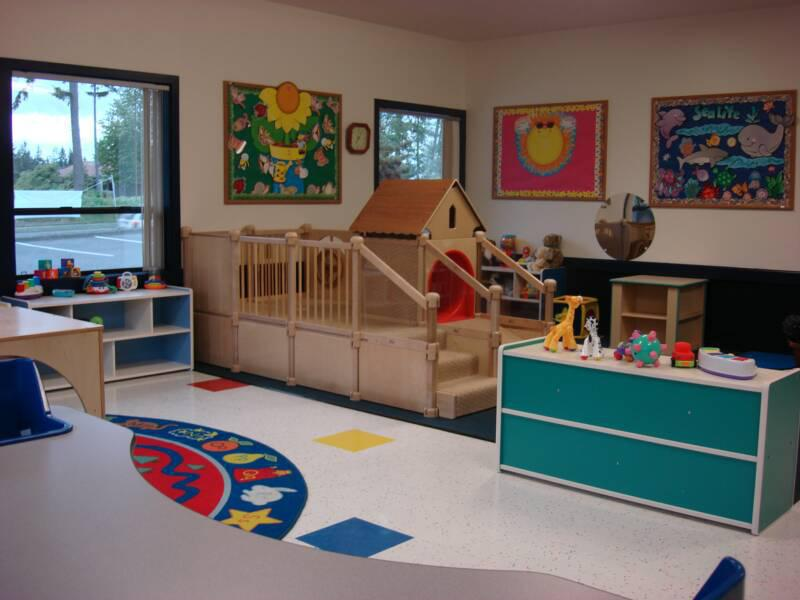Escaleras: (360, 318, 489, 426)
Ventana: (3, 69, 167, 274)
